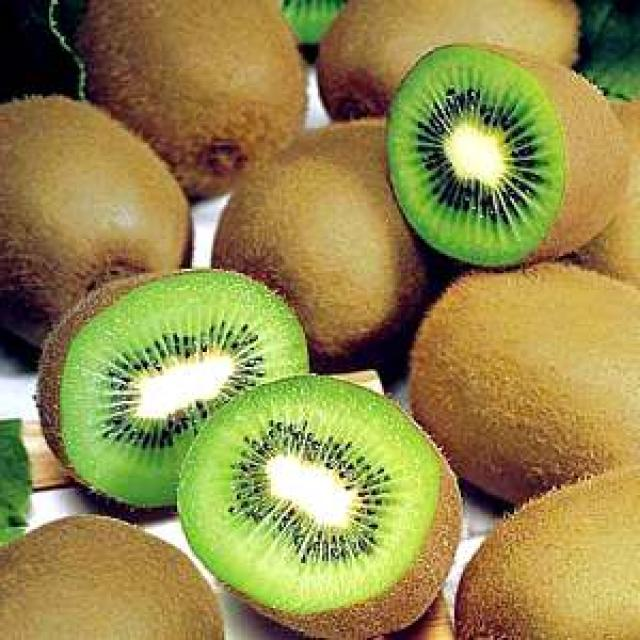Chilli Pepper: (27, 260, 318, 514), (178, 372, 460, 628), (203, 70, 446, 356), (389, 238, 640, 489), (379, 39, 631, 276), (0, 71, 203, 341), (82, 0, 293, 210)
